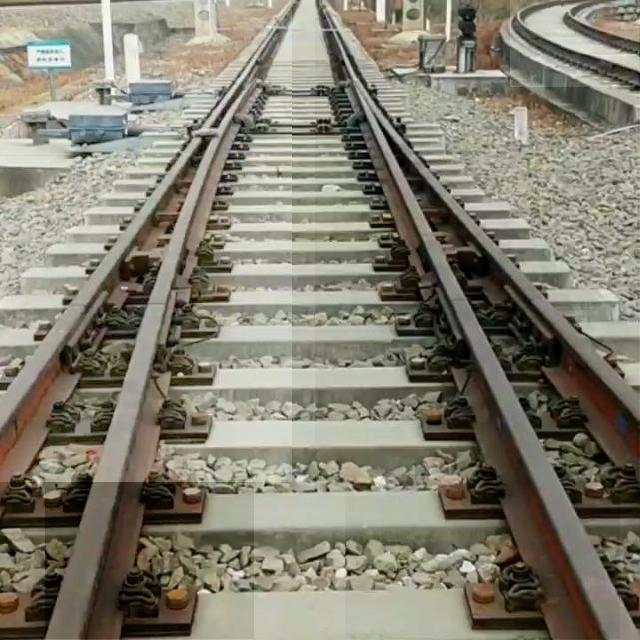rail: (317, 1, 640, 493), (347, 84, 621, 640), (1, 1, 293, 483), (46, 87, 255, 640), (511, 2, 640, 88), (562, 1, 640, 55)
